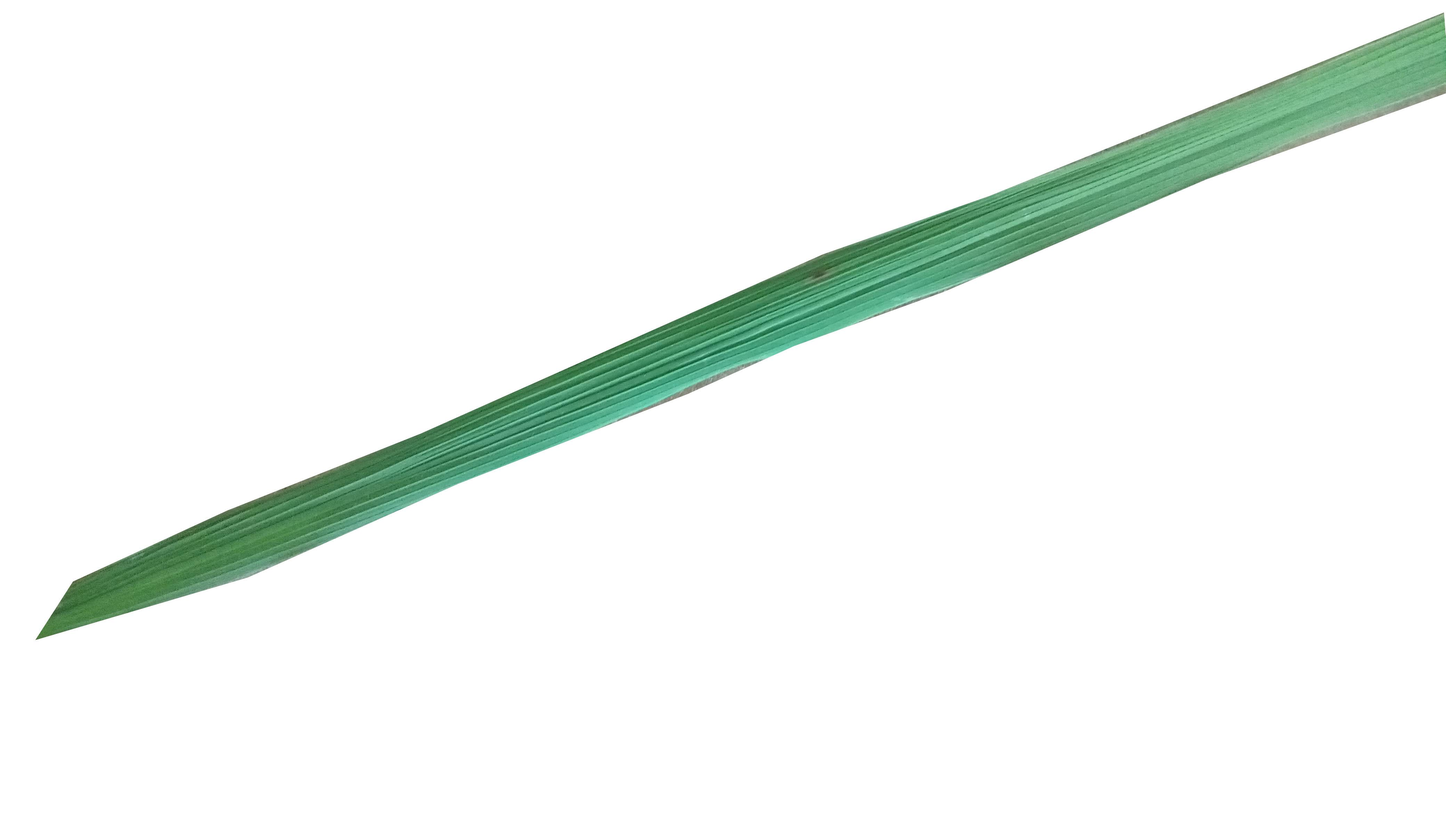Brown spot: (810, 267, 835, 288)
